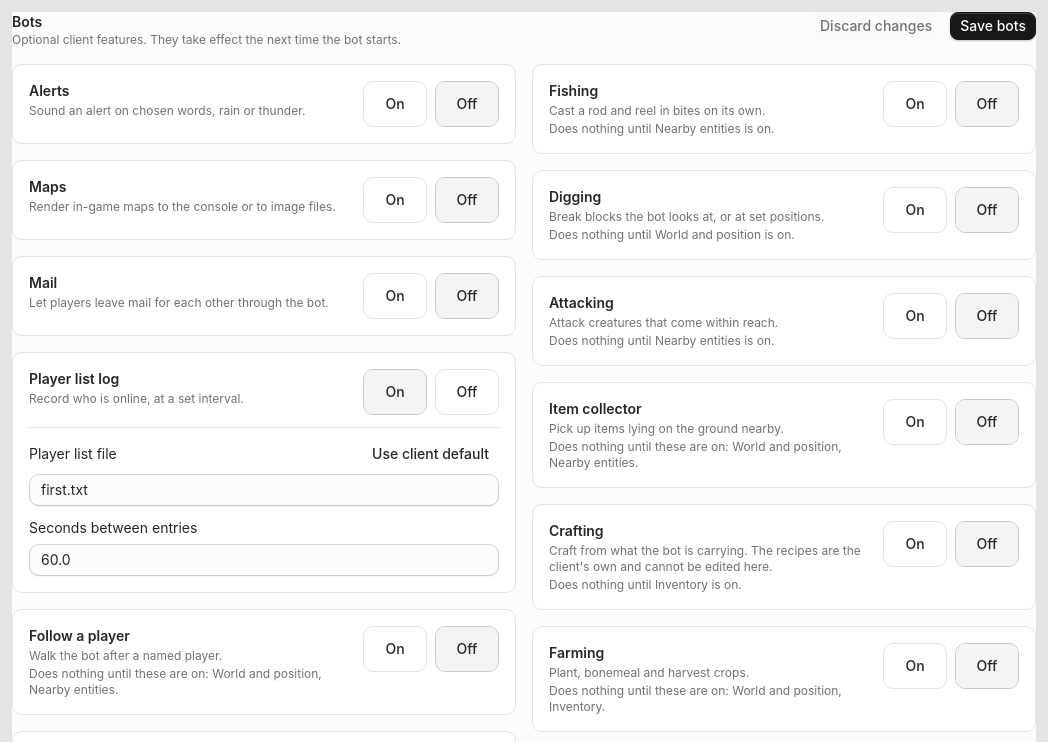
discarding an edit to the bots › ★ goes quiet again after the client default is taken and the same value typed back
expect the button "Discard changes" is disabled: met, box x1=810 y1=12 x2=942 y2=40
Click the button "Use client default". click: [430, 454]
box: x1=362 y1=440 x2=499 y2=468
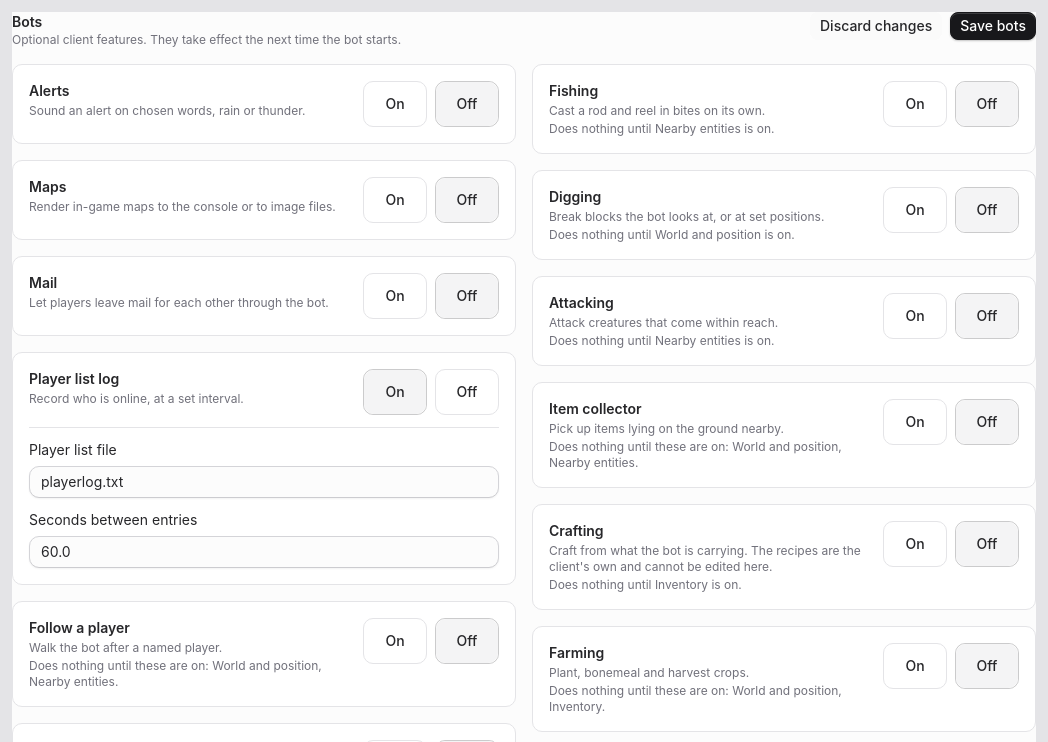
expect the button "Discard changes" is enabled: met, box x1=810 y1=12 x2=942 y2=40
Replace the text in the field named "Player list file" with "first.txt". click: [264, 482]
box: x1=30 y1=467 x2=498 y2=497
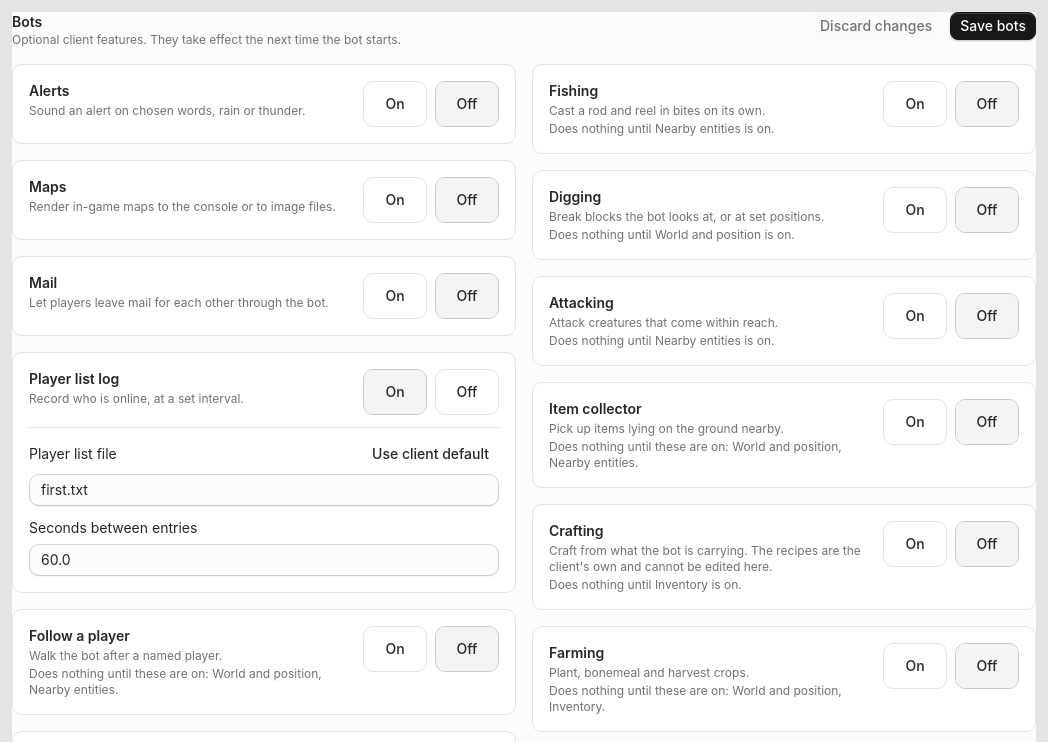
expect the button "Discard changes" is disabled: met, box x1=810 y1=12 x2=942 y2=40
